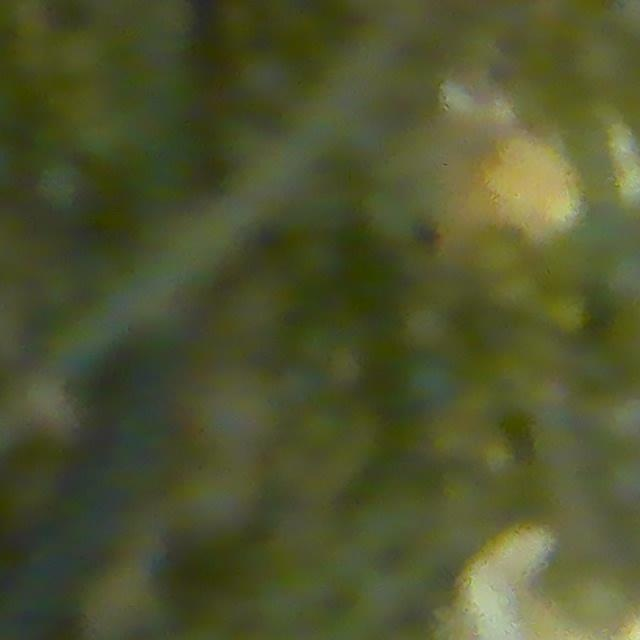SeaGrape: (570, 28, 637, 93), (400, 353, 461, 413), (41, 148, 95, 211), (472, 228, 524, 279), (539, 286, 589, 337), (493, 268, 542, 318)
